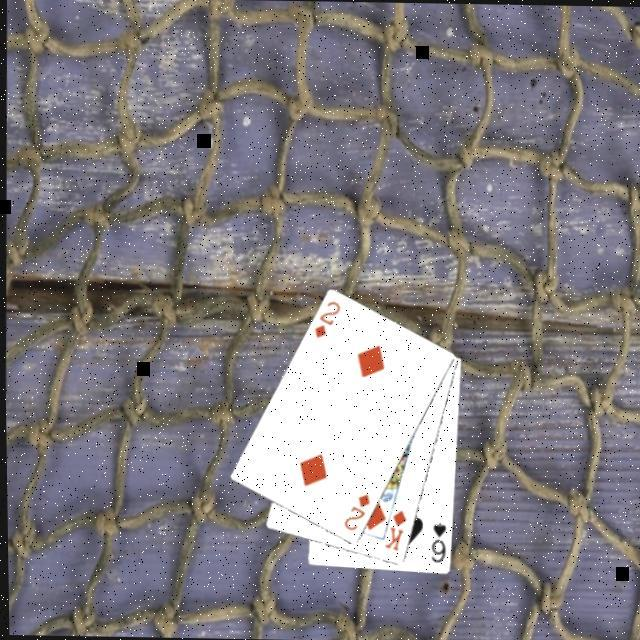2D: (339, 490, 373, 535), (310, 298, 344, 343)
6S: (427, 520, 450, 566)
KD: (379, 507, 409, 555)
